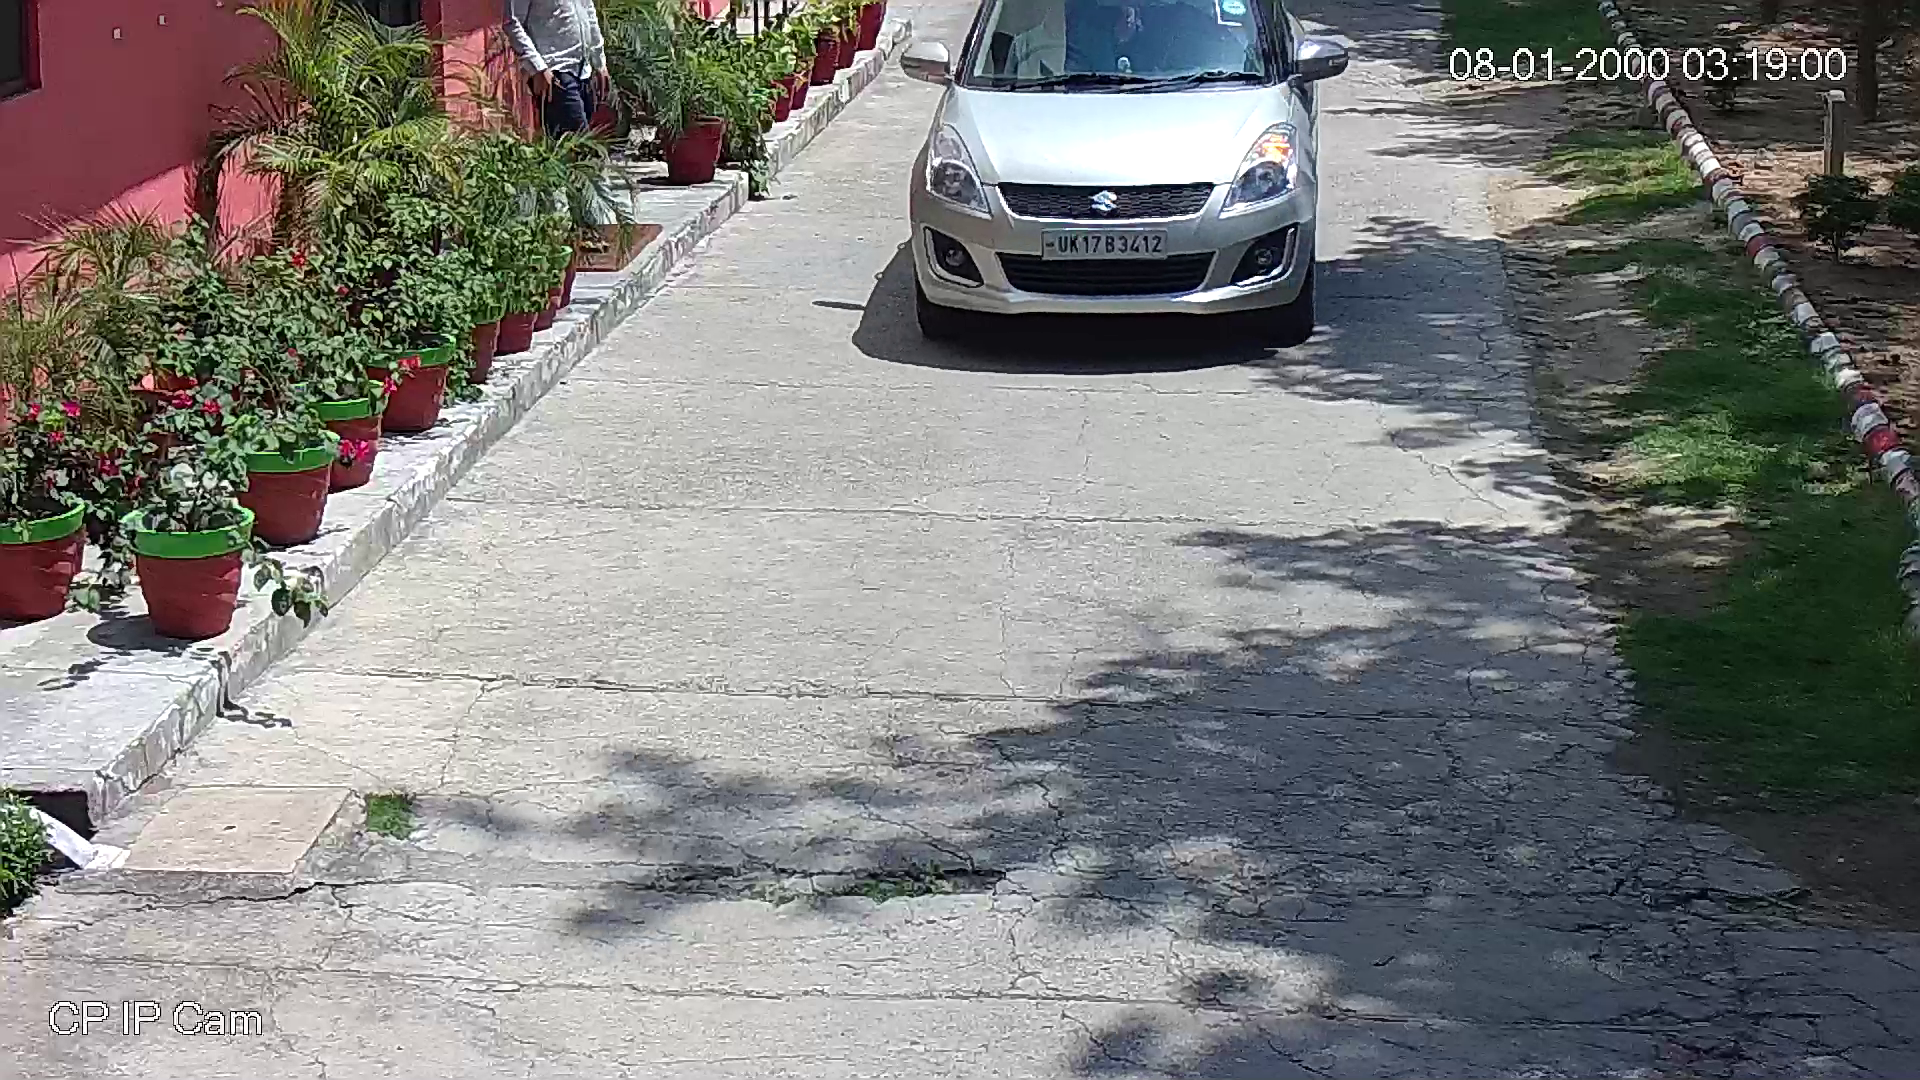plate: (1035, 223, 1175, 263), (993, 349, 997, 355)
